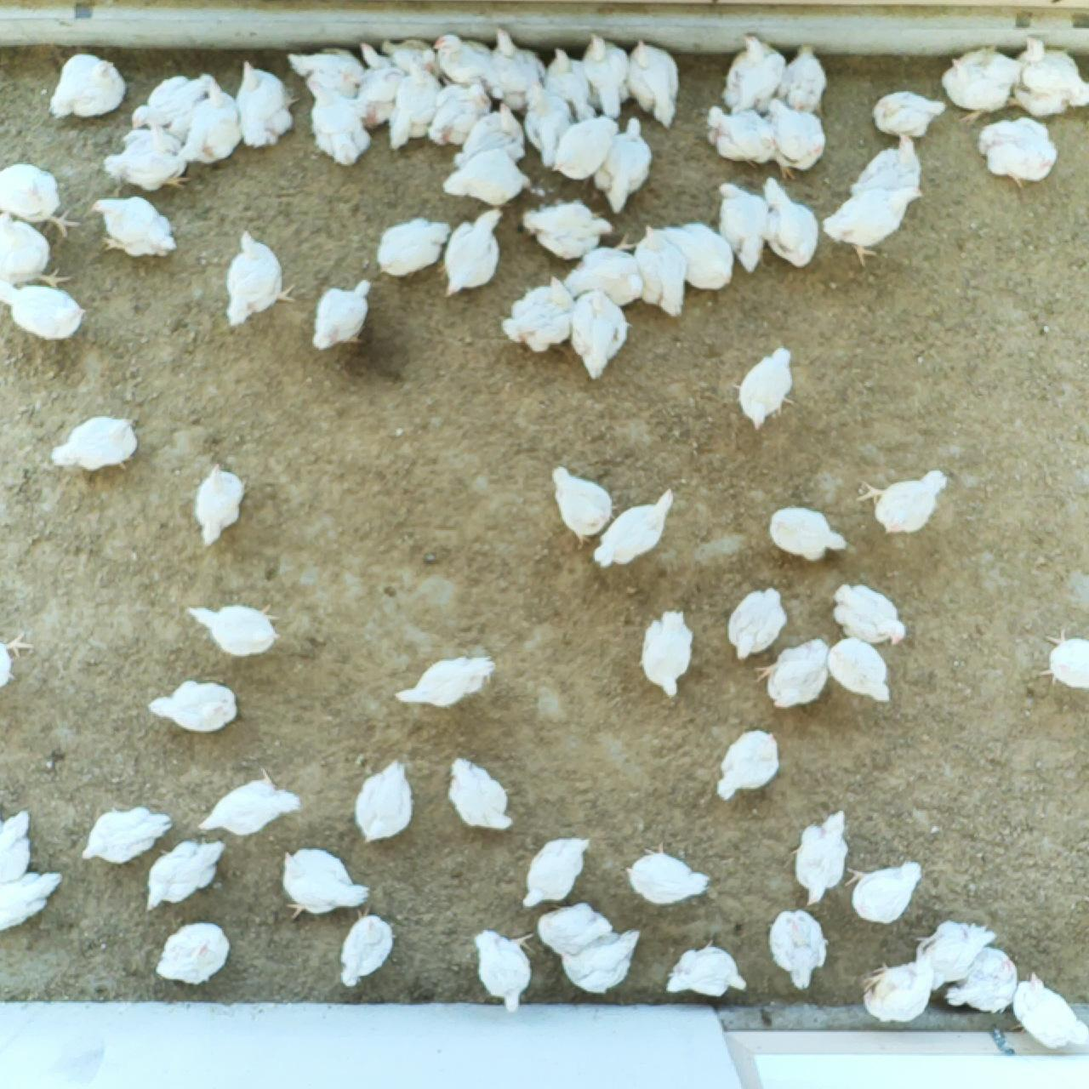chicken: (824, 186, 923, 266), (198, 770, 308, 836), (591, 488, 677, 567), (1, 162, 82, 242), (224, 237, 294, 328), (1011, 971, 1089, 1052), (753, 179, 821, 267), (284, 849, 368, 920), (498, 282, 583, 352), (944, 43, 1020, 121), (1014, 36, 1089, 114), (564, 291, 629, 381), (858, 473, 955, 533), (918, 918, 995, 993), (712, 181, 773, 275), (624, 841, 711, 906), (980, 116, 1059, 187), (398, 654, 498, 710), (471, 931, 540, 1012), (524, 199, 622, 256), (852, 134, 935, 201), (74, 809, 171, 866), (789, 810, 847, 905), (434, 150, 534, 205), (101, 131, 187, 194), (186, 603, 282, 659), (768, 501, 852, 565), (562, 238, 641, 306), (306, 83, 369, 168), (755, 638, 829, 710), (233, 61, 294, 148), (443, 211, 504, 298), (445, 758, 514, 834), (523, 835, 596, 906), (50, 54, 125, 122), (629, 225, 686, 314), (96, 194, 174, 259), (152, 921, 231, 985), (1, 279, 84, 339), (149, 842, 226, 906), (356, 761, 413, 847), (738, 347, 797, 430), (712, 732, 784, 800), (720, 34, 781, 114), (1, 214, 65, 289), (564, 931, 641, 993), (638, 612, 692, 700), (668, 942, 748, 1001), (824, 636, 893, 704), (626, 37, 678, 127), (485, 29, 542, 111), (847, 860, 921, 923), (131, 75, 210, 134), (760, 99, 821, 175), (149, 679, 238, 731), (602, 118, 653, 208), (128, 72, 207, 130), (55, 417, 140, 470), (516, 76, 569, 161), (770, 912, 828, 989), (555, 469, 613, 546), (944, 949, 1017, 1010), (544, 49, 601, 127), (374, 216, 449, 275), (663, 225, 733, 288), (430, 34, 502, 94), (862, 962, 930, 1024), (834, 583, 904, 643), (286, 45, 368, 96), (454, 108, 521, 170), (190, 83, 241, 163), (535, 904, 618, 953), (315, 279, 371, 350), (197, 459, 242, 547), (394, 61, 439, 146), (731, 587, 783, 659), (341, 916, 395, 985), (356, 42, 402, 123), (710, 107, 770, 168), (582, 35, 623, 117), (434, 85, 488, 147), (1041, 630, 1089, 698), (873, 90, 945, 134), (784, 43, 829, 113), (3, 876, 54, 928), (3, 817, 31, 887), (1, 630, 29, 693)
